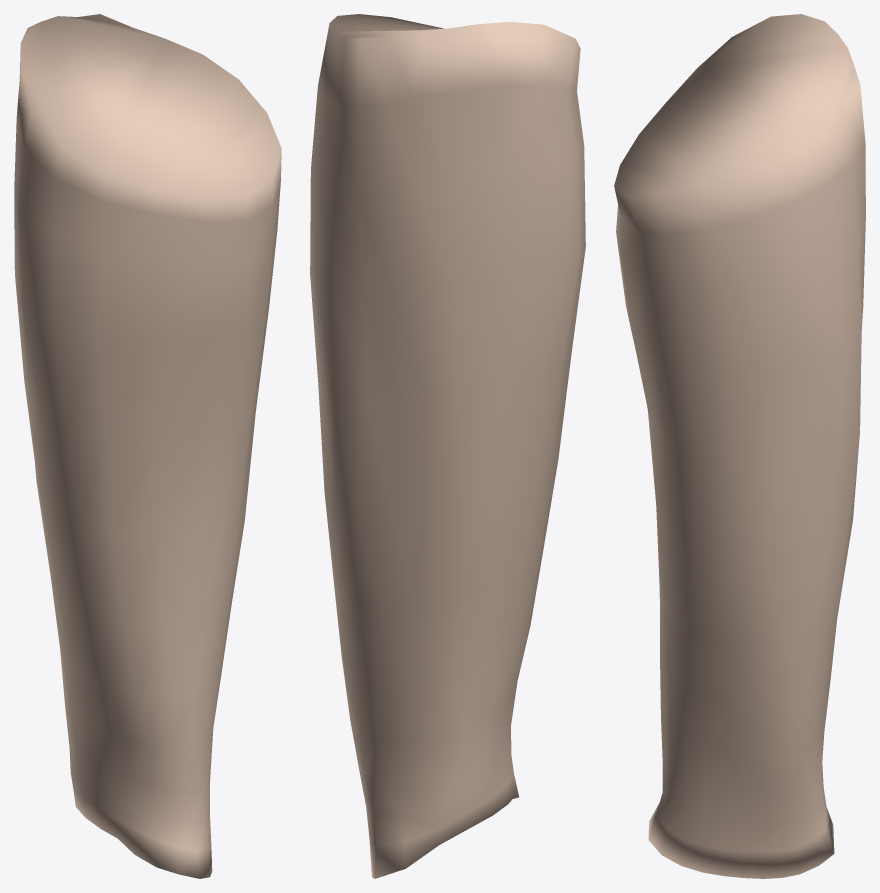
Rendered from right_lower_arm.dae.
The picture shows the model from 3 angles, left to right: view 1: azimuth 30°, elevation 25°; view 2: azimuth 150°, elevation 25°; view 3: azimuth 270°, elevation 25°; orthographic projection. The views are drawn at different scales.
Visible parts, largest first — view 1: right-lower-arm; view 2: right-lower-arm; view 3: right-lower-arm.
Boxes of the visible parts, box(x1,y1,x2,y2) form: right-lower-arm: box(14, 14, 281, 878); right-lower-arm: box(310, 14, 585, 878); right-lower-arm: box(614, 14, 865, 878).
Bounding box in the file's own units: 0.0703 × 0.0684 × 0.2401.
